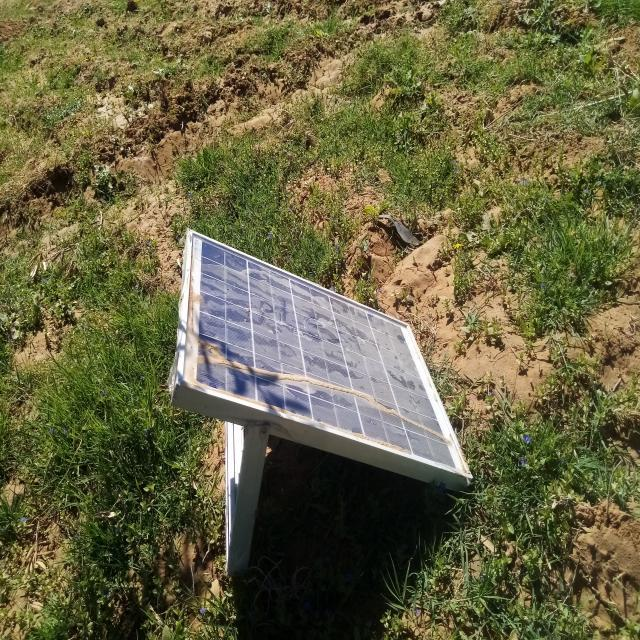faulty: (180, 230, 472, 477)
